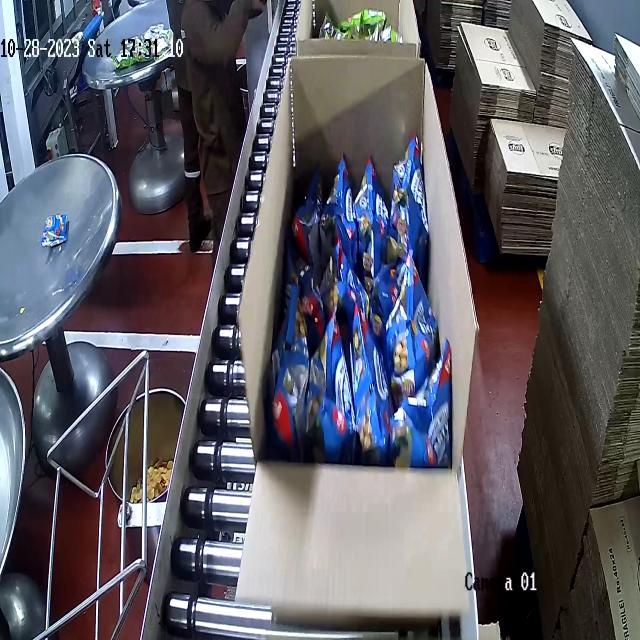PAPRIKA: (279, 158, 447, 455)
